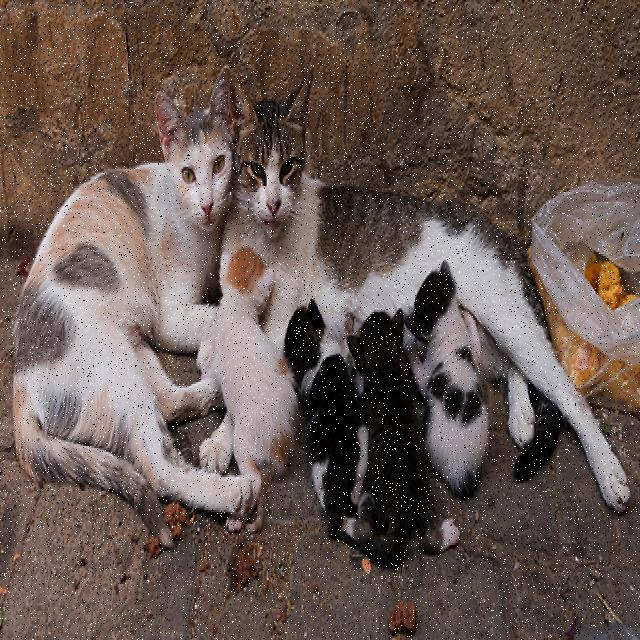cat: (221, 77, 630, 510), (14, 68, 250, 548), (340, 311, 459, 565), (212, 248, 298, 531), (285, 300, 368, 538), (406, 261, 488, 497)
